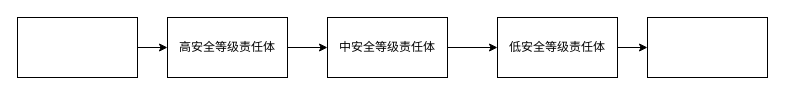
Some shapes in this 785 by 95 pixel diagram are drawn without their labels. Each missing label, with the centre of its shape:
"Hive表命中的敏感标签" goes at (77,47).
"非敏感" goes at (707,47).
